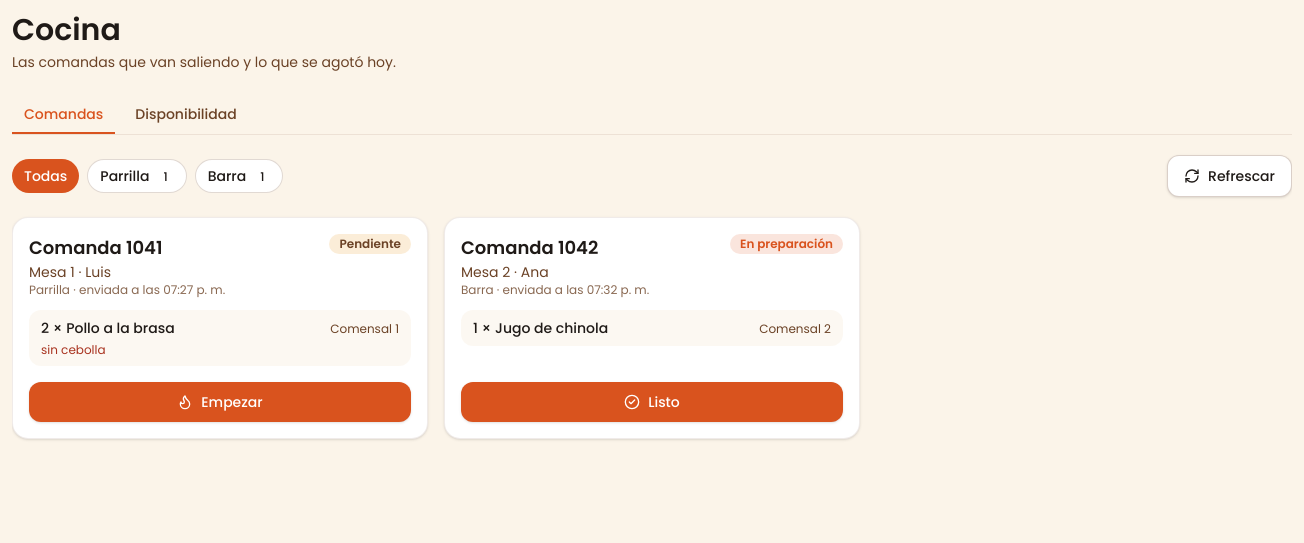
it: Cocina › si la comanda no se puede mover, muestra el mensaje y no cambia la tarjeta
Expected: the text "Comanda 1041" is shown, [29, 235, 162, 260]
What coordinates should you click on to do the following:
click the button with aria-label "Empezar la comanda 1041"
I would click on:
 (220, 402)
Its box is [29, 382, 411, 422].
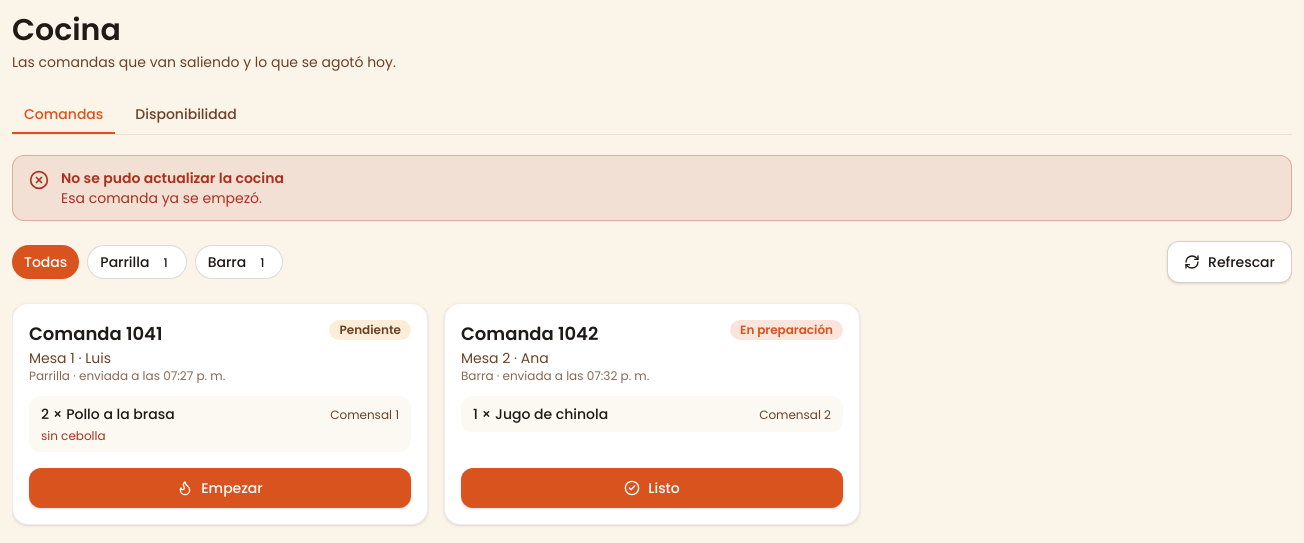
Expected: the button with aria-label "Empezar la comanda 1041" is shown, [29, 468, 411, 508]
Expected: the text "Esa comanda ya se empezó." is shown, [61, 188, 284, 208]
